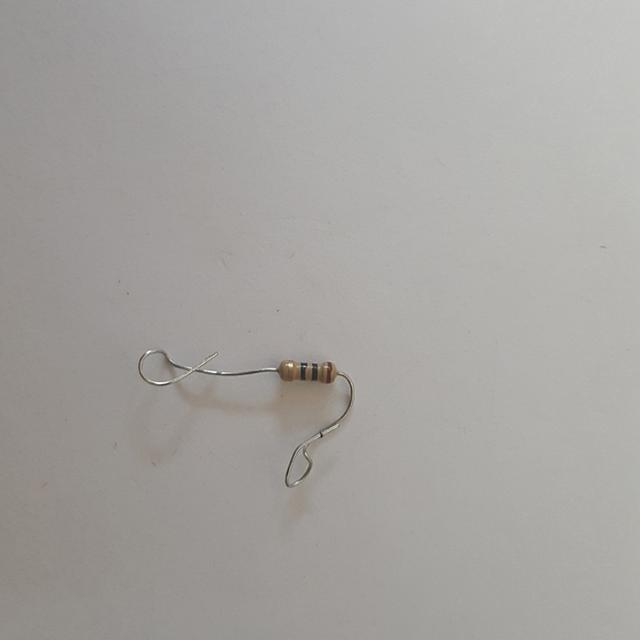black: (301, 363, 307, 379), (312, 364, 317, 380)
brown: (326, 363, 331, 383)
gold: (289, 360, 293, 379)
resistor: (276, 354, 341, 387)
